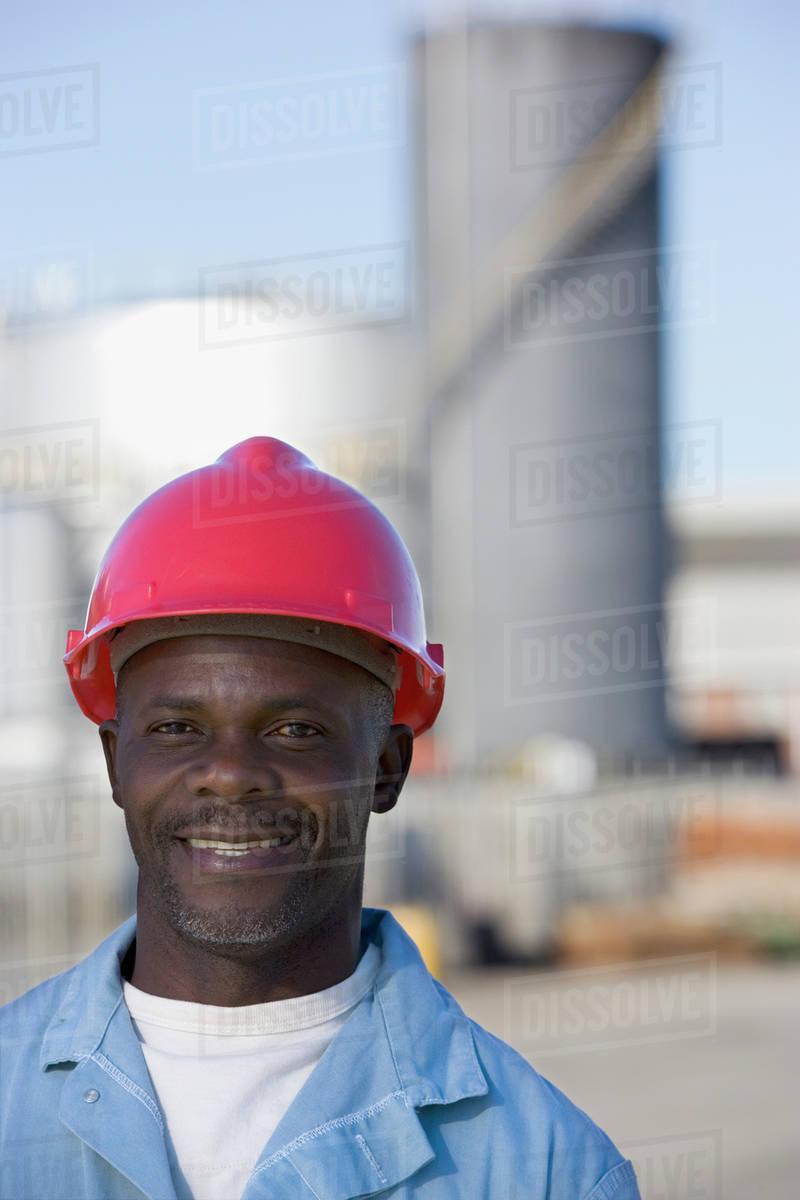hardhat: (70, 434, 452, 712)
worker: (1, 436, 641, 1200)
